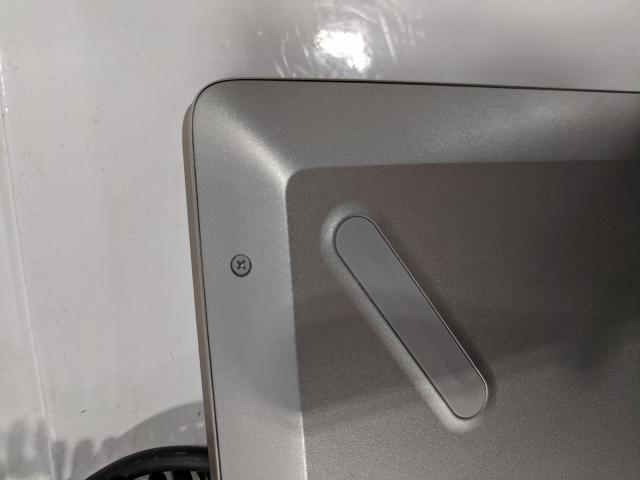CRS: (231, 254, 252, 277)
